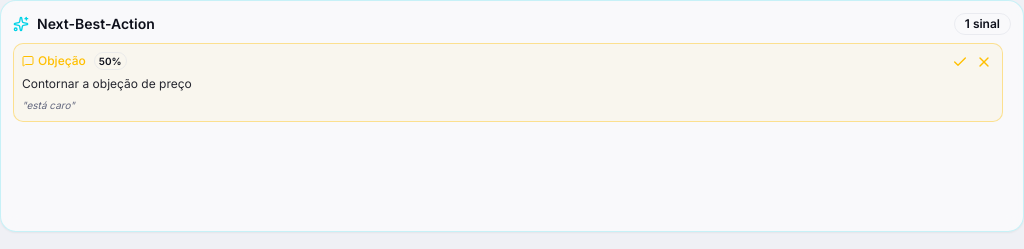
Test case: NextBestActionPanel › ignorar nao registra a sugestao como usada (A-212)
This screenshot has width=1024, height=249.
Step 1. Click the button titled "Ignorar" → {"x": 984, "y": 62}, box x1=974 y1=52 x2=994 y2=72
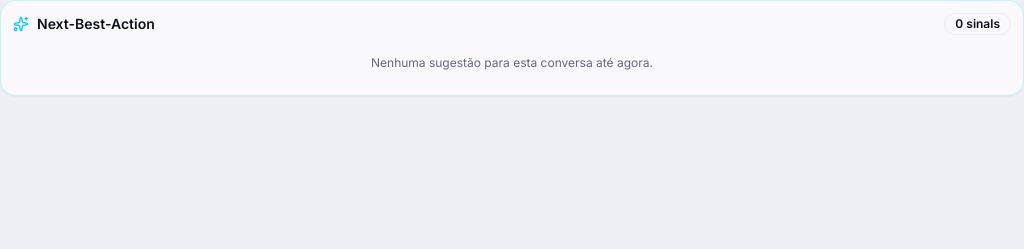
Expected: the text "Contornar a objeção de preço" is gone
Expected: the text "Nenhuma sugestão para esta conversa até agora." is shown, x1=371 y1=55 x2=653 y2=70
